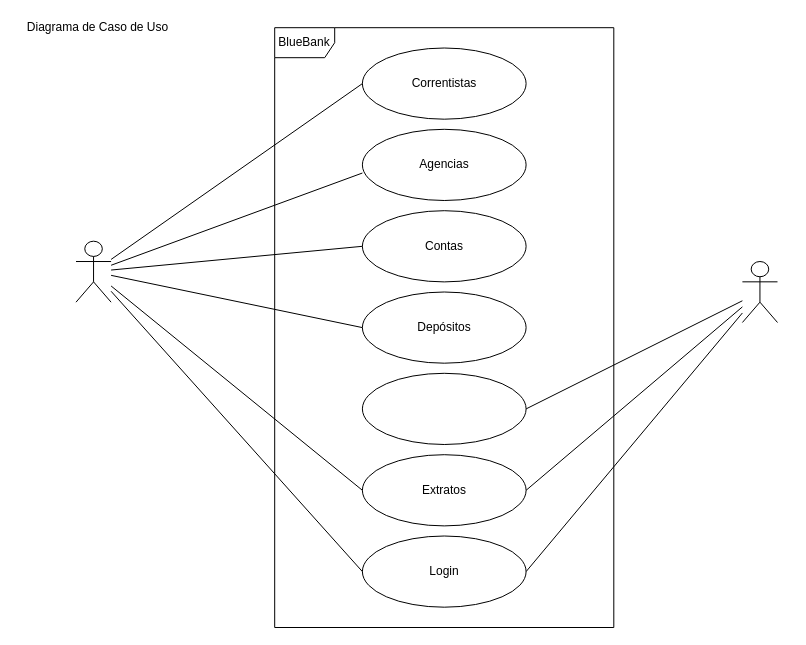
Some shapes in this 806 by 645 pixel diagram are drawn without their labels. The centre of each missing label's shape, as x and y in pixels:
Admin: the point at 93,271
Correntista: the point at 759,291
Transferências e Retiradas: the point at 443,408
